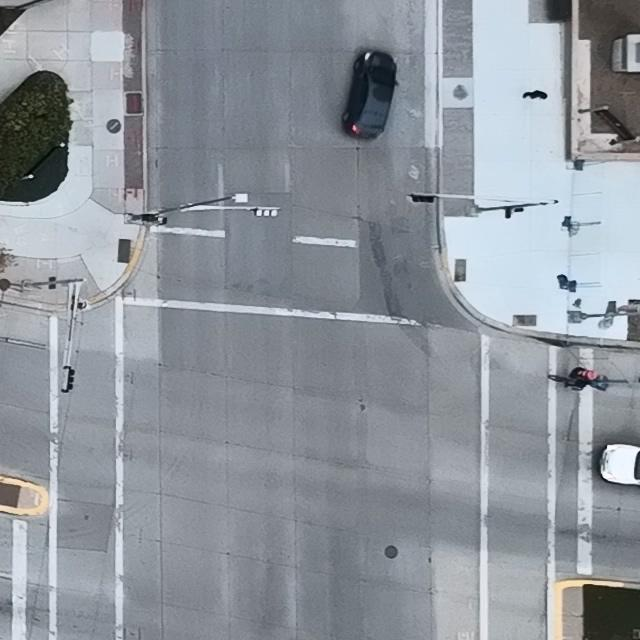car: (340, 50, 400, 140), (599, 444, 640, 488)
